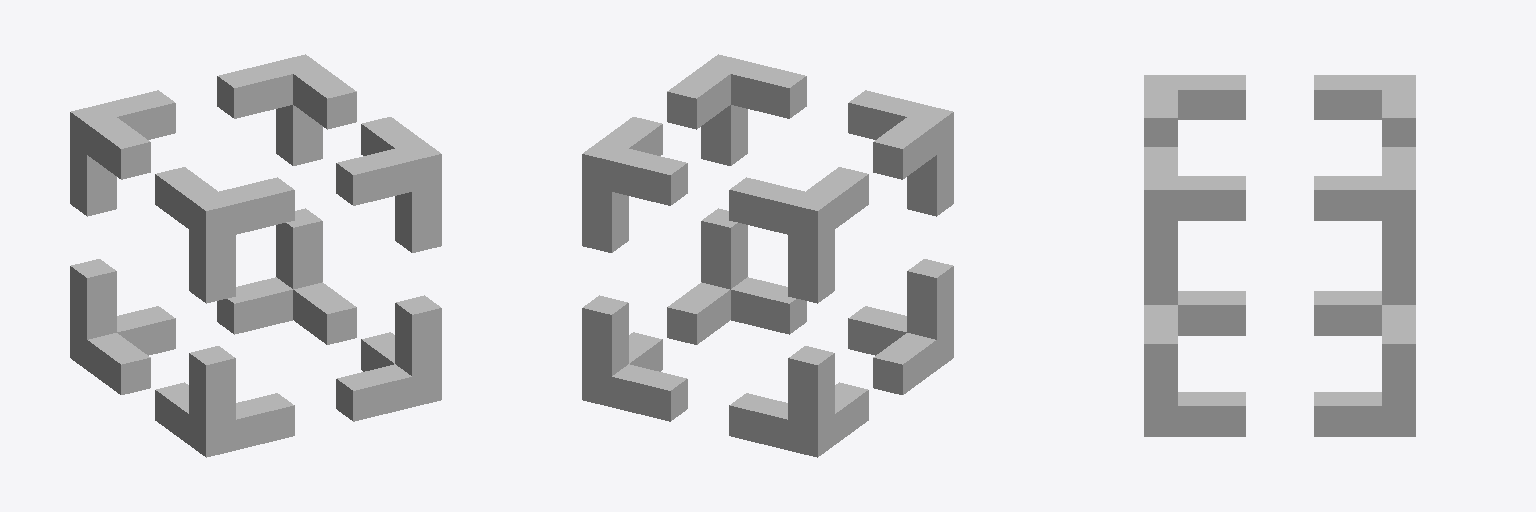
The model's file is cubito2.obj.
3 views of the same model, side by side, from view 1: azimuth 30°, elevation 25°; view 2: azimuth 150°, elevation 25°; view 3: azimuth 270°, elevation 25° (orthographic).
Parts seen in each view (by area): view 1: object 1; view 2: object 1; view 3: object 1.
Part boxes in pixels (bbox=[...]): object 1: bbox=[70, 54, 441, 457]; object 1: bbox=[582, 54, 953, 457]; object 1: bbox=[1144, 75, 1415, 436].
Size of the model in its own units: 0.8 by 0.8 by 0.8.